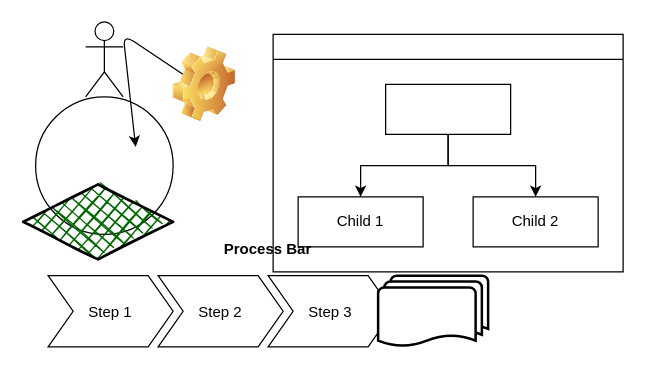
The diagram is 645 pixels wide and 381 high, and some of its shapes have lost their labels. The shapes that lost their labels are listed below. From the top down, each one's box as (x1, y1, x2, y2) in pixels, then its label:
(84, 21, 123, 97): Actor
(384, 83, 511, 134): Root
(272, 33, 623, 272): Vertical Tree Layout
